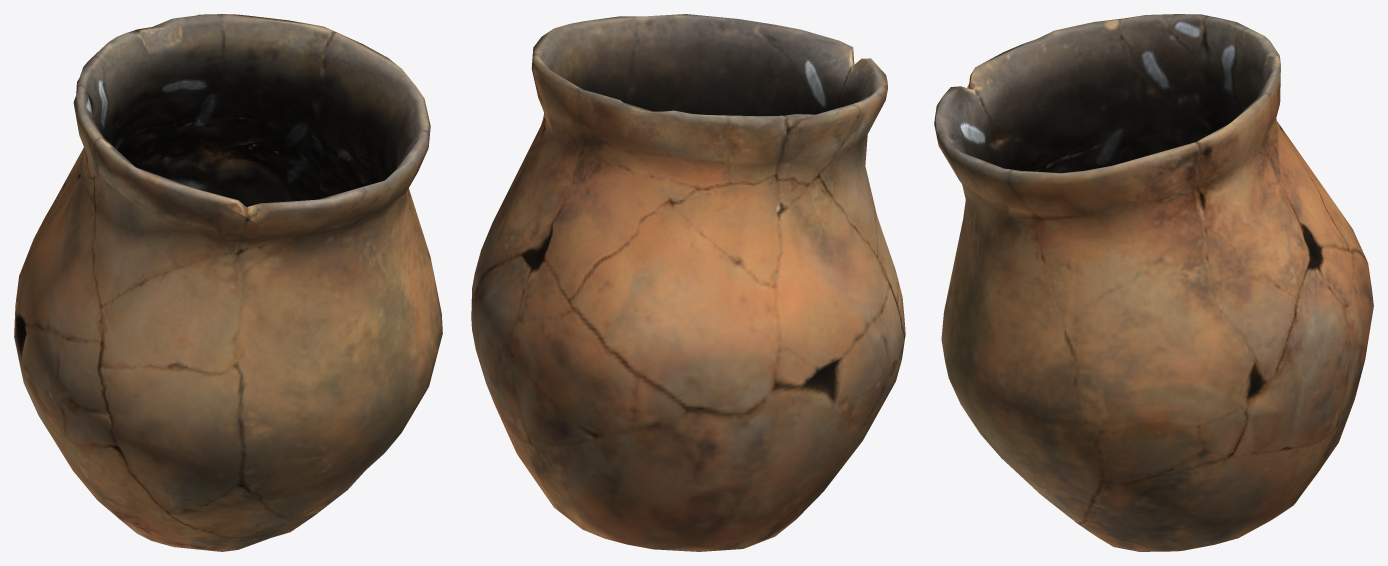
The model's file is clayjar.glb.
3 renders of one model, left to right at view 1: azimuth 30°, elevation 25°; view 2: azimuth 150°, elevation 25°; view 3: azimuth 270°, elevation 25°, orthographic.
Visible parts, largest first — view 1: Object_2; view 2: Object_2; view 3: Object_2.
Part boxes in pixels (x1,y1,x2,y2): Object_2: [14, 14, 442, 551]; Object_2: [471, 14, 905, 551]; Object_2: [934, 14, 1373, 551].
Size of the model in its own units: 2.15 by 2.54 by 2.21.
1 material, 1 textured.
